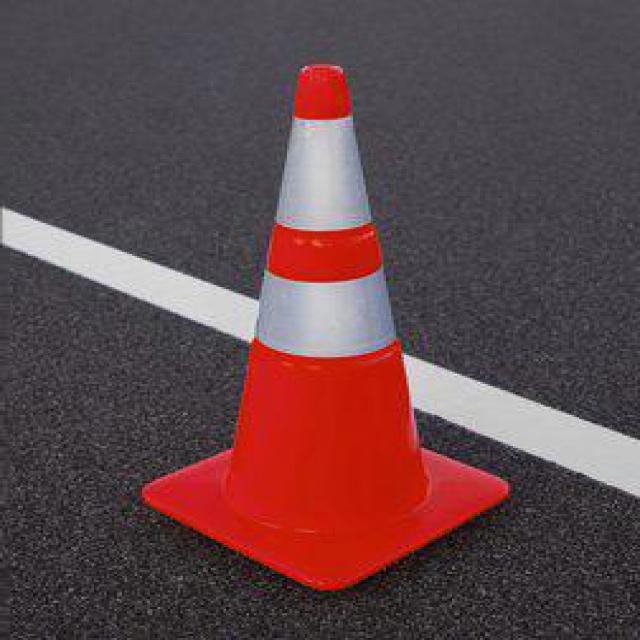cone: (132, 60, 524, 588)
